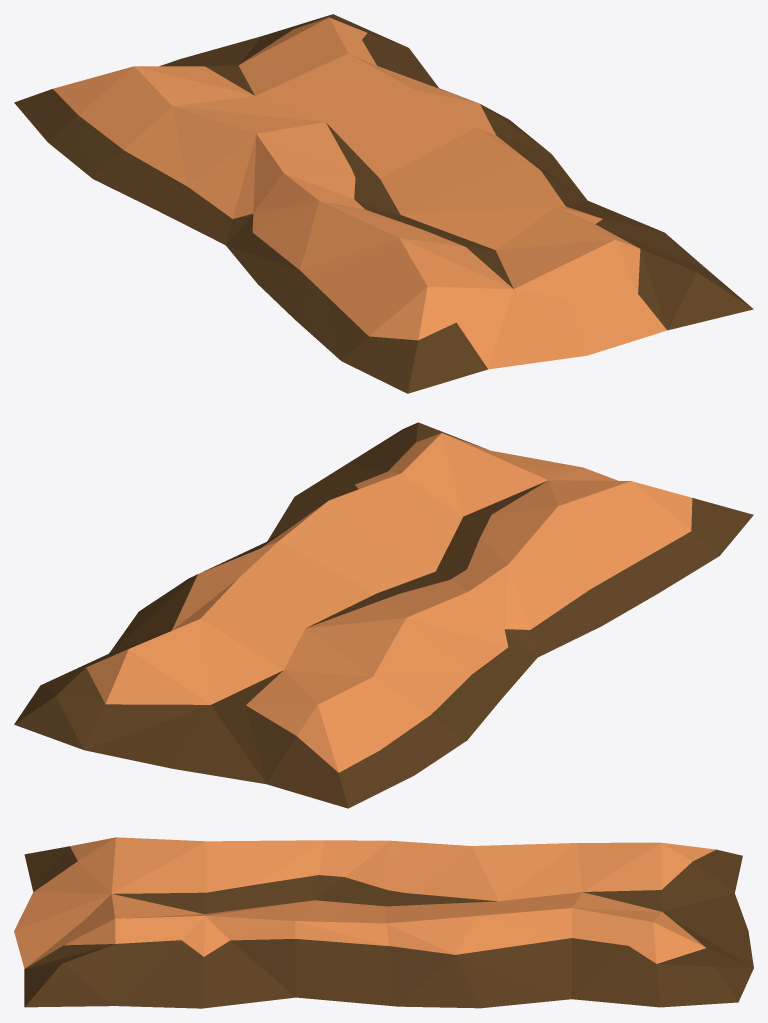
Rendered from Road_Mud_1.fbx.
3 views of the same model, one above another, from view 1: azimuth 30°, elevation 25°; view 2: azimuth 150°, elevation 25°; view 3: azimuth 270°, elevation 25° (orthographic). The views are drawn at different scales.
Visible parts, largest first — view 1: Road_Mud_1; view 2: Road_Mud_1; view 3: Road_Mud_1.
Boxes of the visible parts, x1,y1,x2,y2 form: Road_Mud_1: [14, 14, 753, 393]; Road_Mud_1: [14, 422, 753, 808]; Road_Mud_1: [14, 837, 753, 1008].
Size of the model in its own units: 5.85 by 0.8962 by 11.15.
